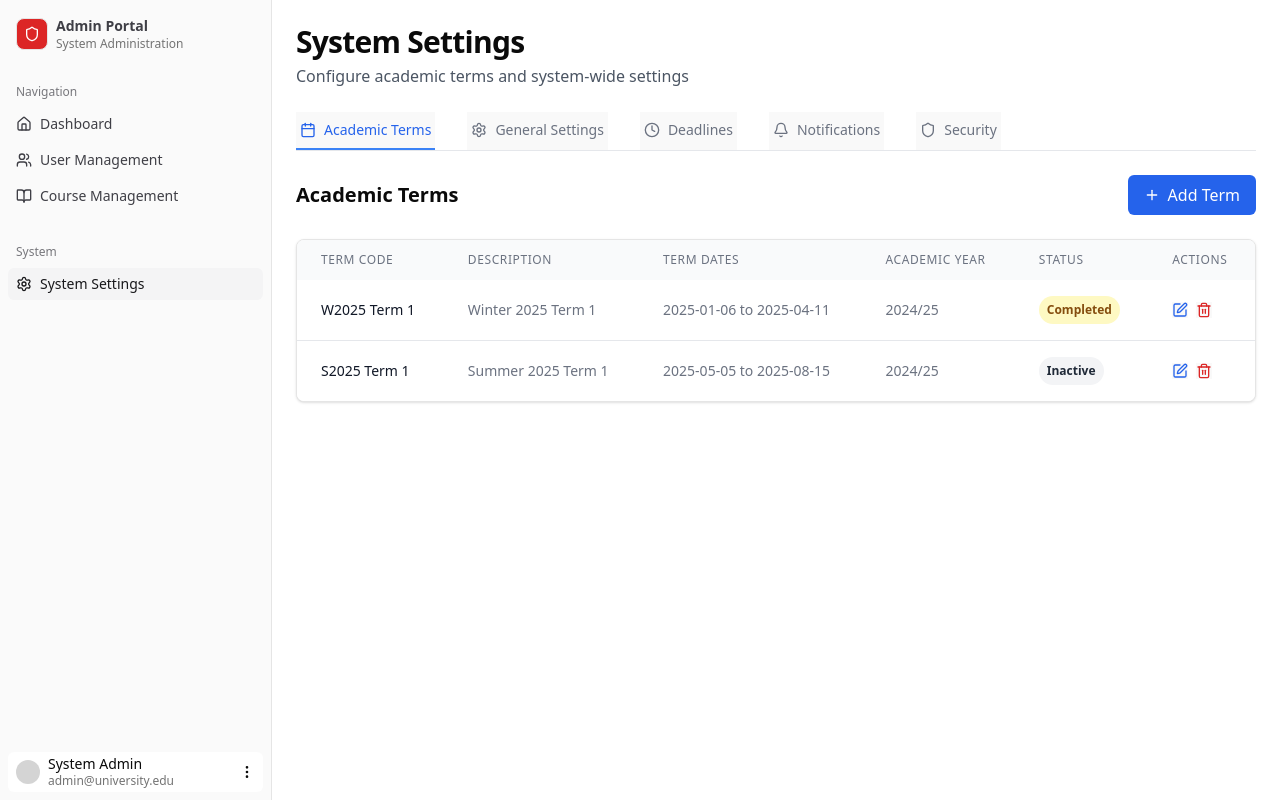
Test case: SystemSettings › Tab Navigation › switches to Security tab when clicked
This screenshot has width=1280, height=800.
Step 1. Click the button "Security" → (958, 131), box [916,112,1001,150]
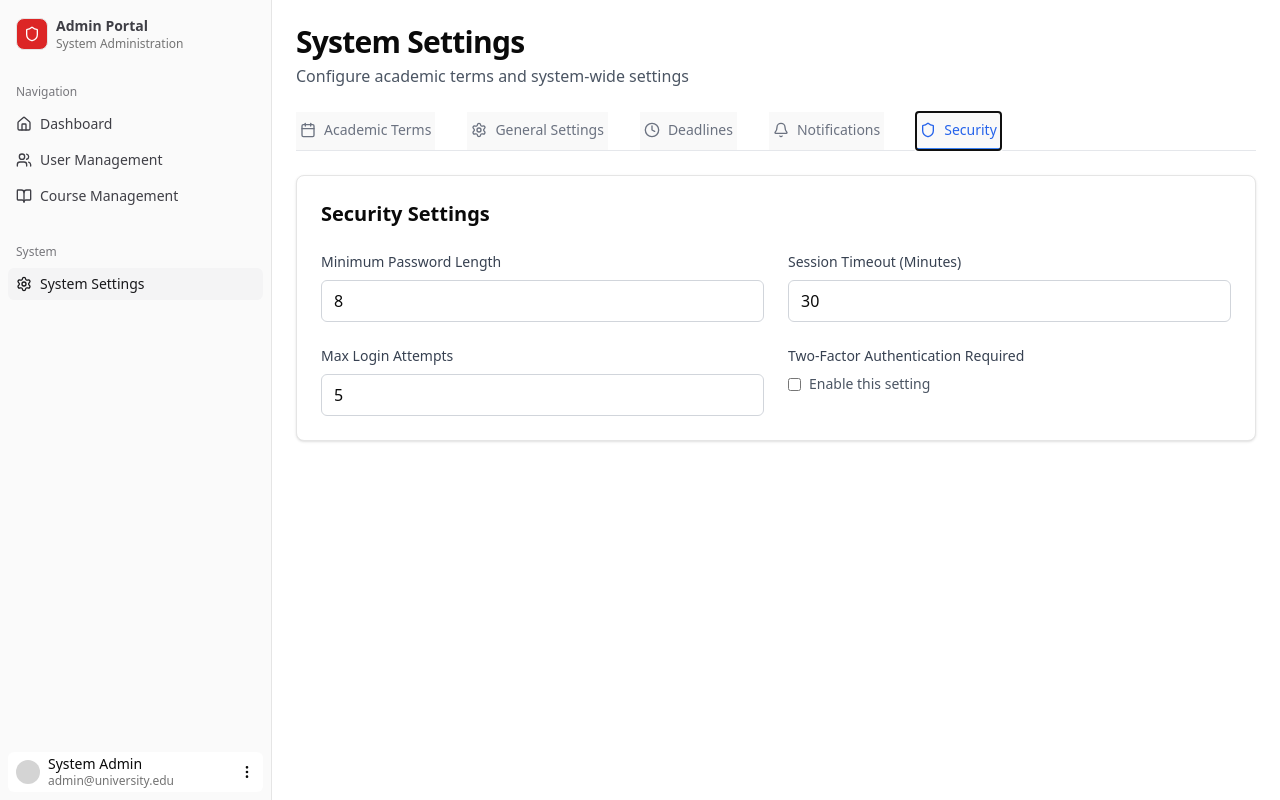
Check: the heading "Security Settings" is shown, box [321,200,490,227]
Check: the text "Minimum Password Length" is shown, box [321,252,501,271]
